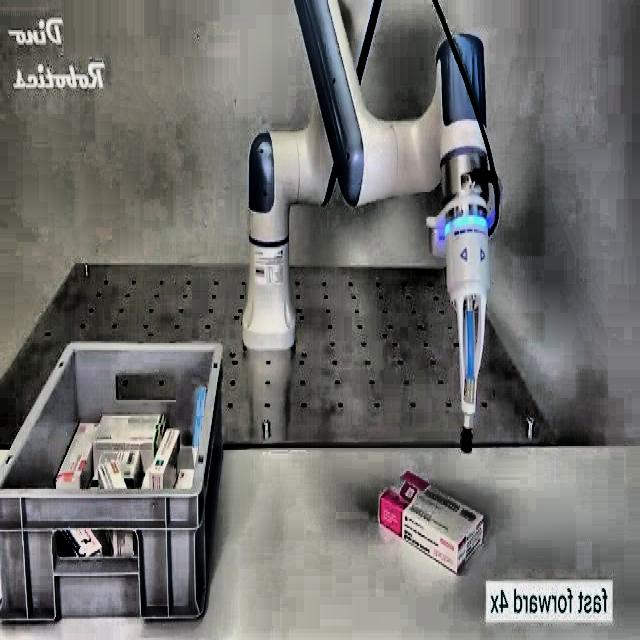robot: (242, 0, 501, 452)
